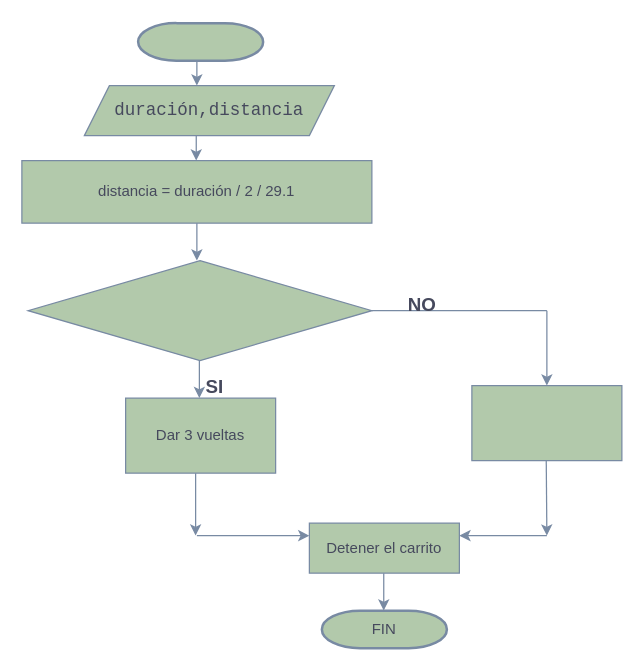
Some shapes in this 644 by 670 pixel diagram are drawn without their labels. Each missing label, with the box of its shape:
INICIO: (136, 21, 264, 61)
Reducir el tiempo de las 3 vueltas: (471, 384, 622, 461)
Si la distancia < 106 cm: (27, 259, 372, 361)
